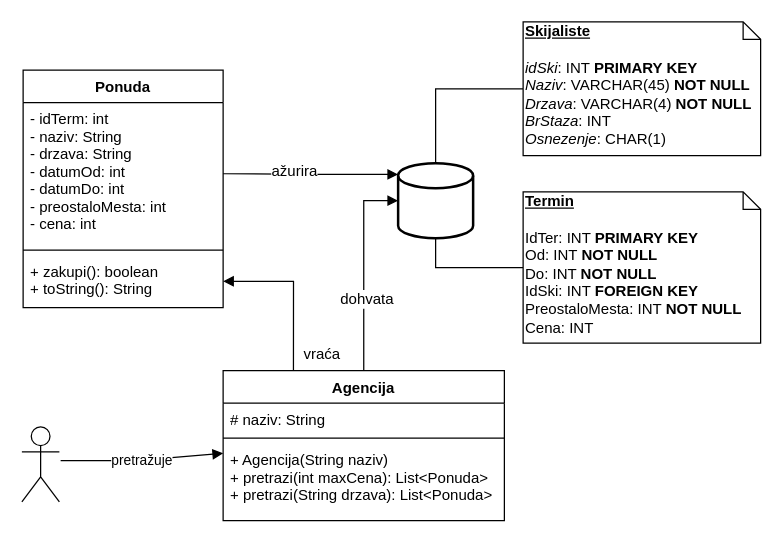
The diagram is 783 pixels wide and 550 high, and some of its shapes have lost their labels. Here are the shapes that lost their labels. From the top down, the centre of each, then its label:
[435,200]: SQL
[40,464]: Actor
